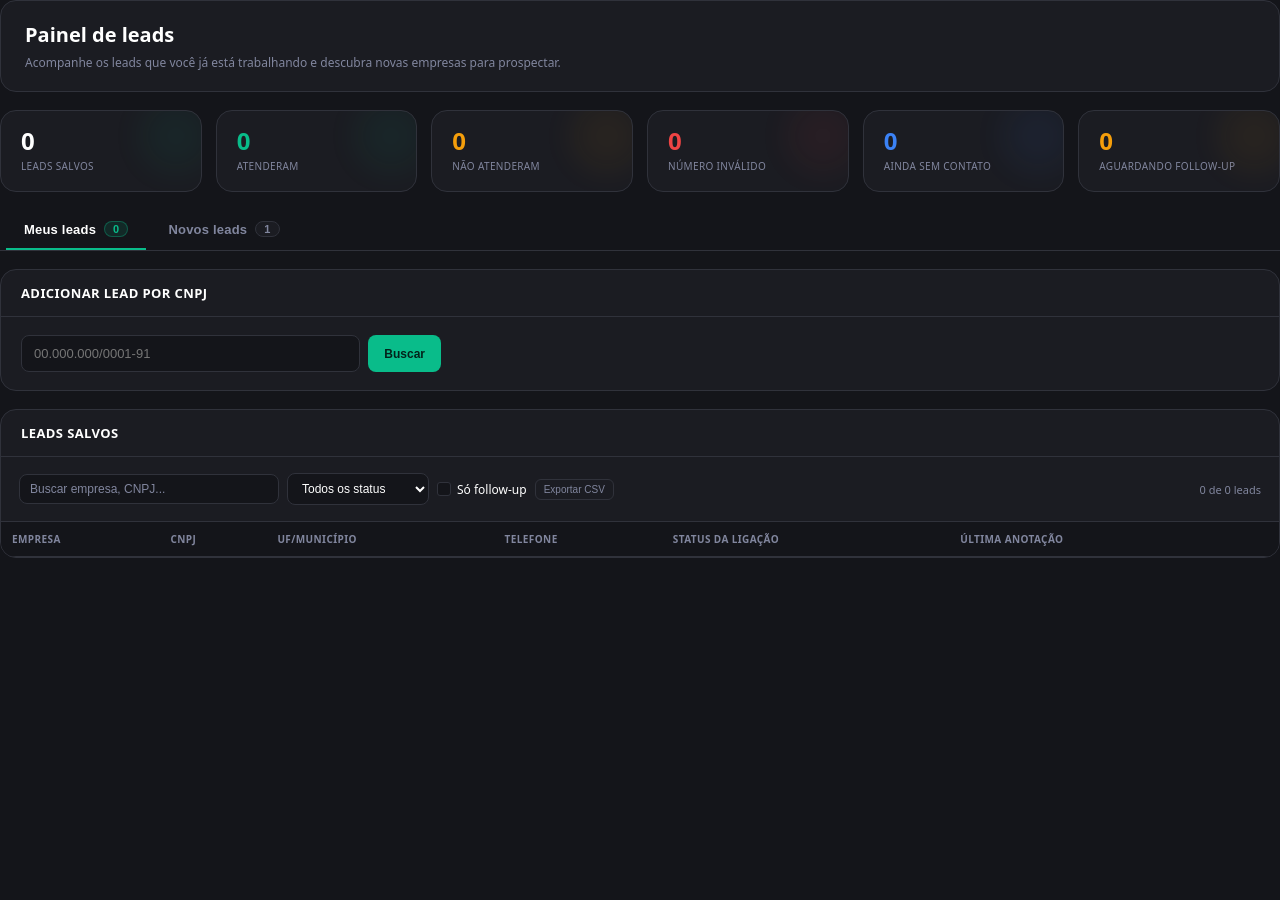
Test: LeadsPage › ocultar lead novo remove da lista de novos leads
Click the button "Novos leads 1".
click(224, 230)  # box [150,210,298,250]
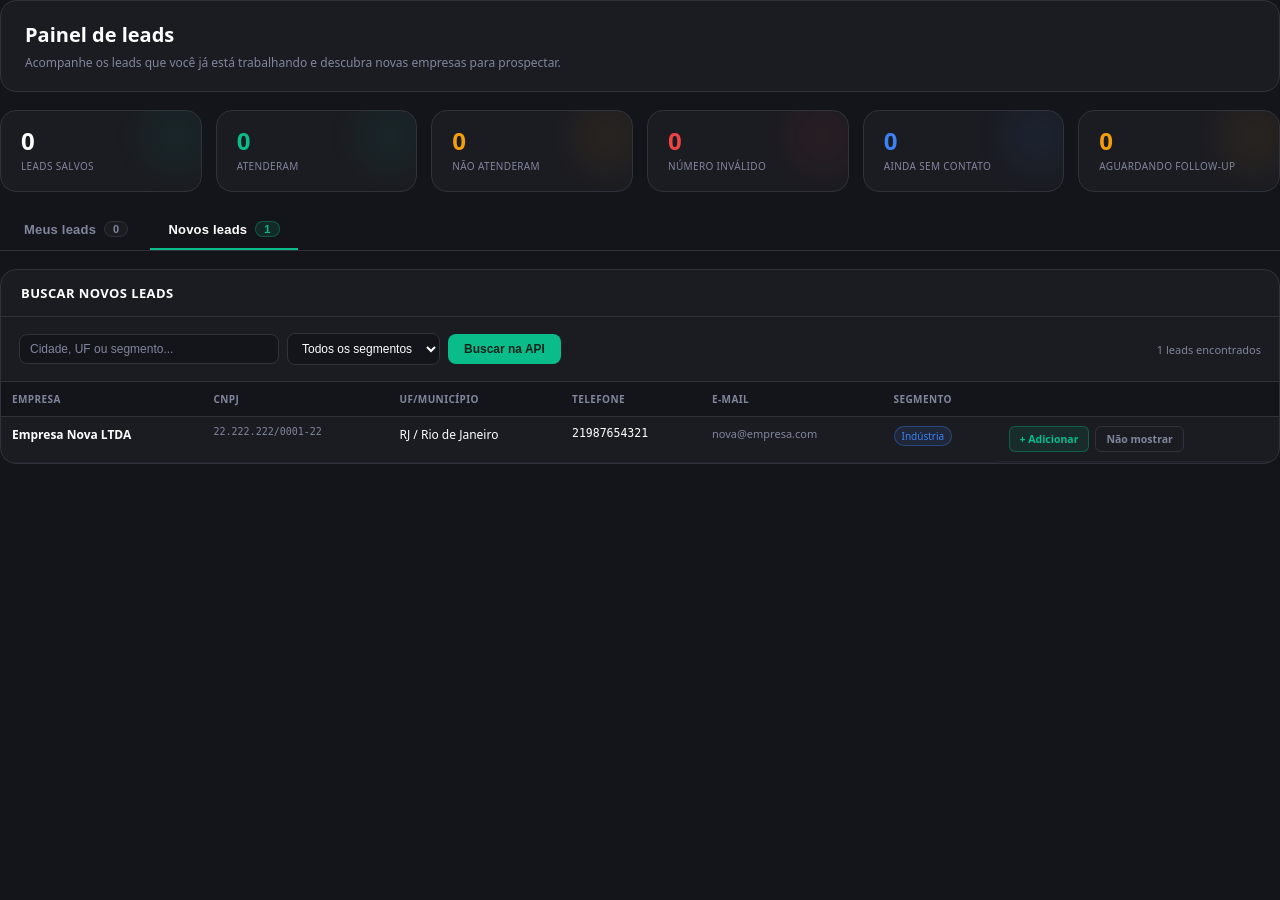
Check: the text "Empresa Nova LTDA" is shown, box [12,426,131,443]
Click the text "Não mostrar".
click(1140, 439)  # box [1095,426,1184,452]
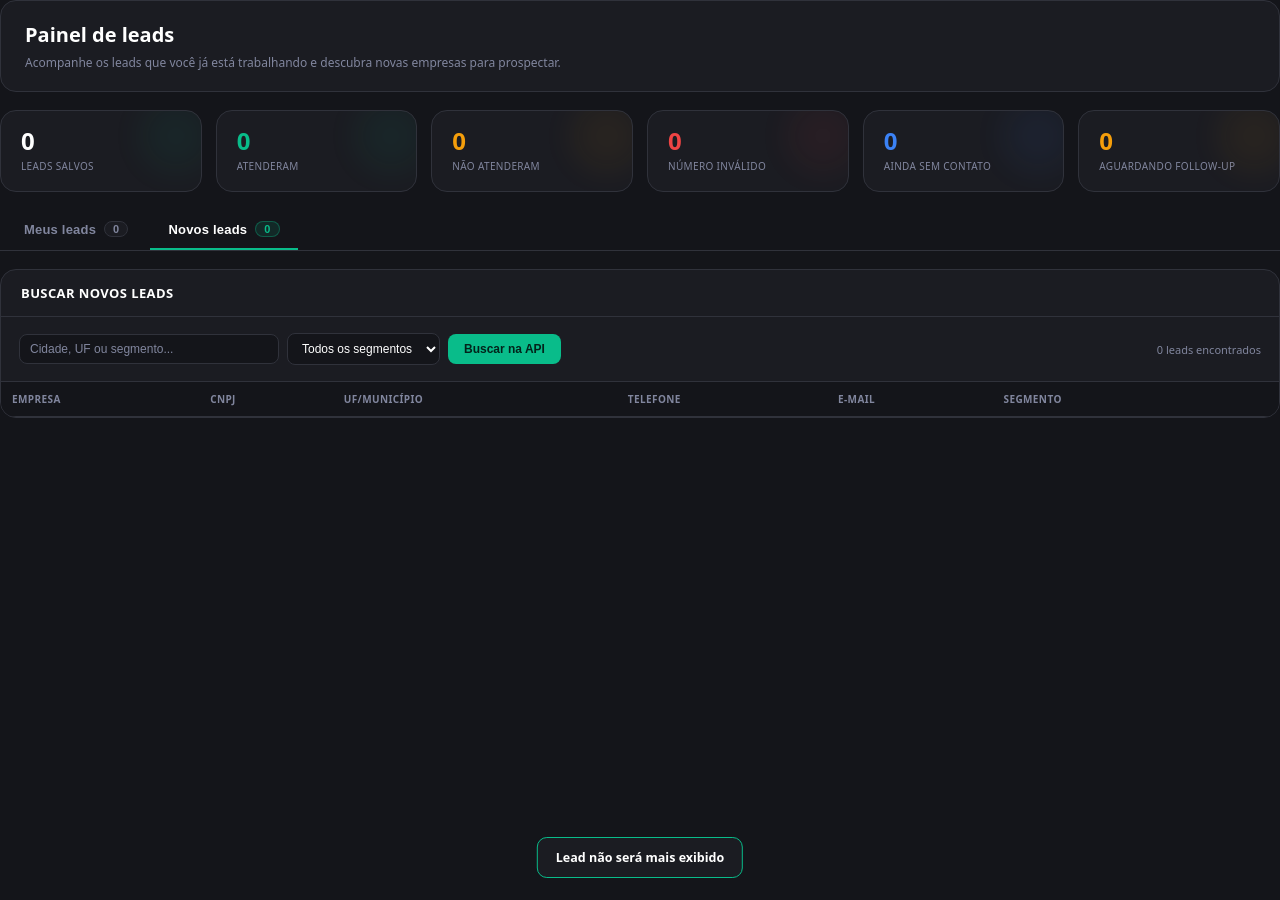
Check: the text "Empresa Nova LTDA" is gone
